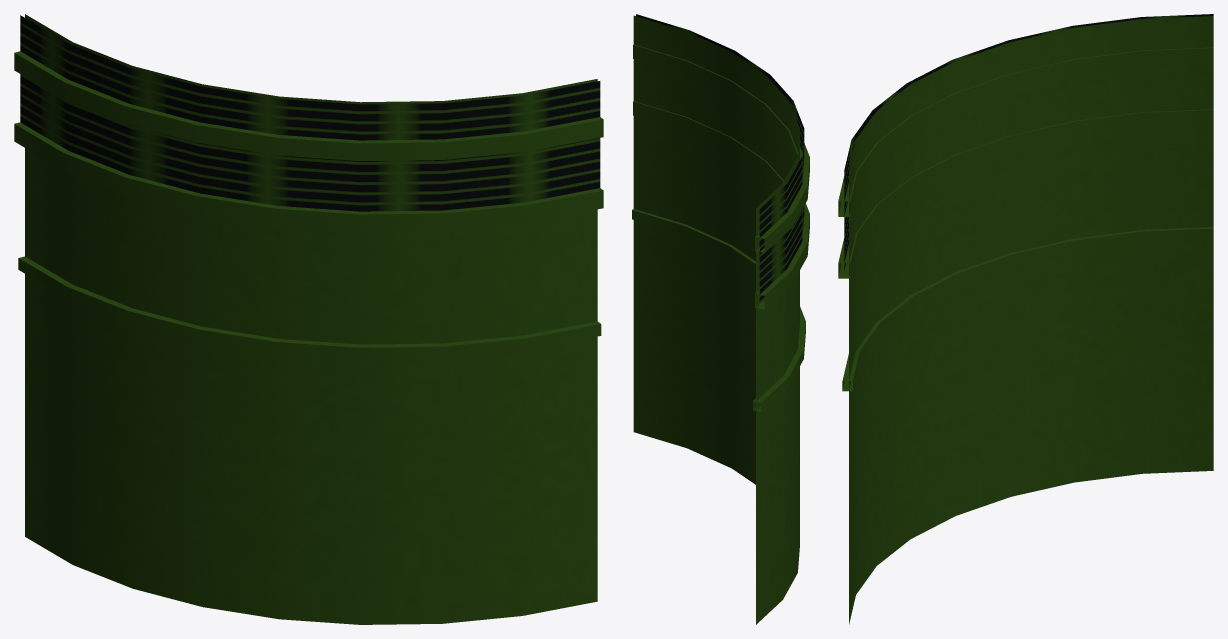
Rendered from cell_29.obj.
3 renders of one model, left to right at view 1: azimuth 30°, elevation 25°; view 2: azimuth 150°, elevation 25°; view 3: azimuth 270°, elevation 25°, orthographic. The views are drawn at different scales.
Visible parts, largest first — view 1: cell_29; view 2: cell_29; view 3: cell_29.
Boxes of the visible parts, x1,y1,x2,y2 form: cell_29: [14, 14, 603, 624]; cell_29: [632, 14, 809, 624]; cell_29: [838, 14, 1213, 624].
Size of the model in its own units: 0.7481 by 1 by 0.7481.
